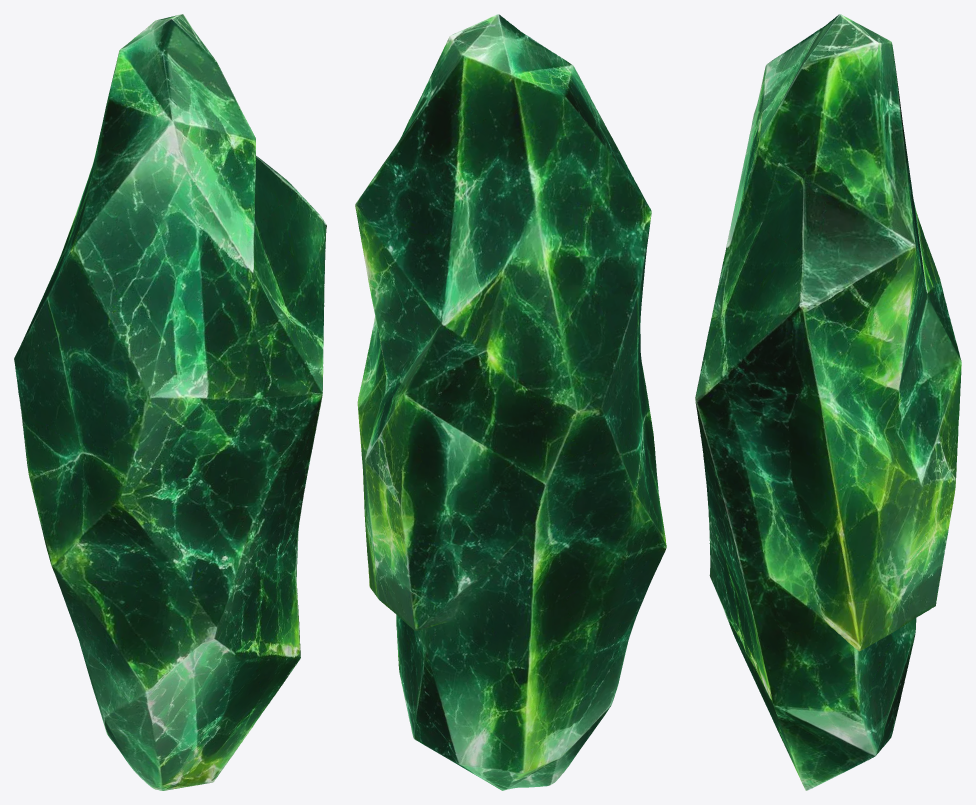
Rendered from hero-emerald.v3.glb.
3 renders of one model, left to right at view 1: azimuth 30°, elevation 25°; view 2: azimuth 150°, elevation 25°; view 3: azimuth 270°, elevation 25°, orthographic. The views are drawn at different scales.
Size of the model in its own units: 0.729 by 1.9 by 0.5991.
1 material, 1 textured.
